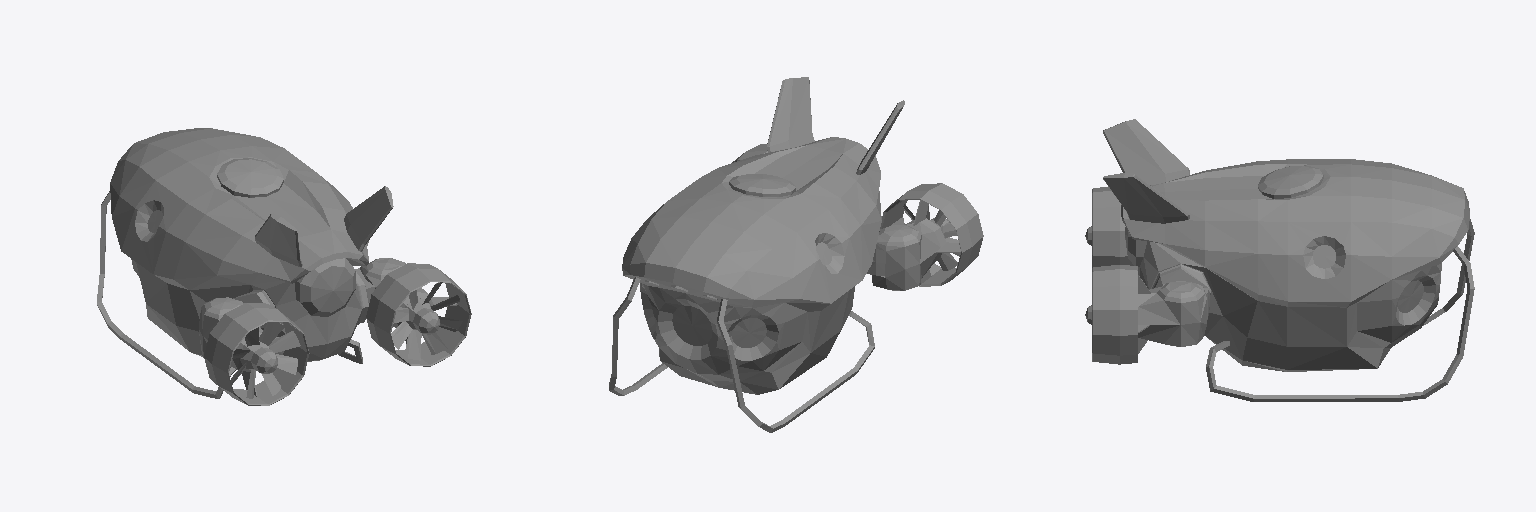
Rendered from rov.obj.
The picture shows the model from 3 angles: view 1: azimuth 30°, elevation 25°; view 2: azimuth 150°, elevation 25°; view 3: azimuth 270°, elevation 25°; orthographic projection.
Visible parts, largest first — view 1: Sphere07, Object04, Object07, Object01, Object06; view 2: Sphere07, Object04, Object01; view 3: Sphere07, Object07, Object04, Object05.
Part boxes in pixels (x1,y1,x2,y2): Sphere07: (97, 128, 393, 398); Object04: (199, 297, 309, 405); Object07: (360, 258, 471, 366); Object01: (231, 322, 300, 398); Object06: (391, 282, 462, 360); Sphere07: (609, 77, 904, 432); Object04: (872, 183, 983, 290); Object01: (903, 204, 960, 270); Sphere07: (1103, 119, 1474, 401); Object07: (1092, 265, 1206, 364); Object04: (1092, 187, 1133, 267); Object05: (1152, 264, 1210, 319).
Bounding box in the file's own units: 235 × 197 × 318.